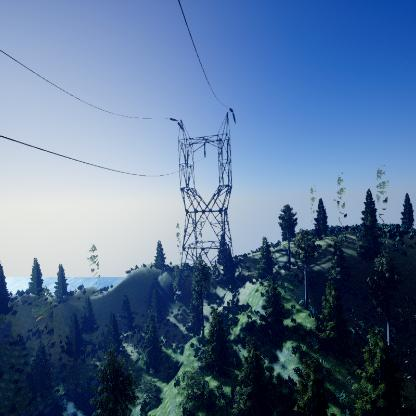tower: (168, 105, 240, 309)
